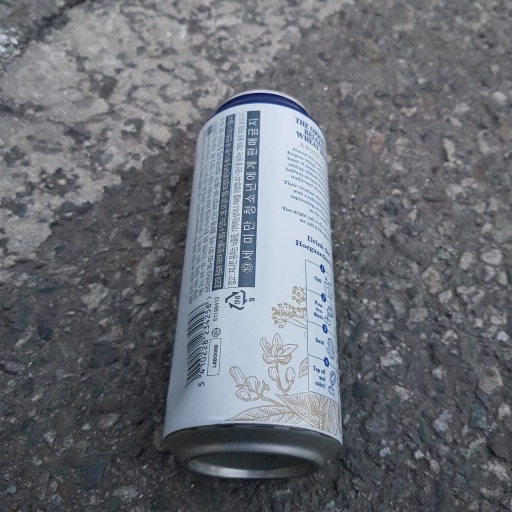Metal_0: (154, 88, 347, 478)
